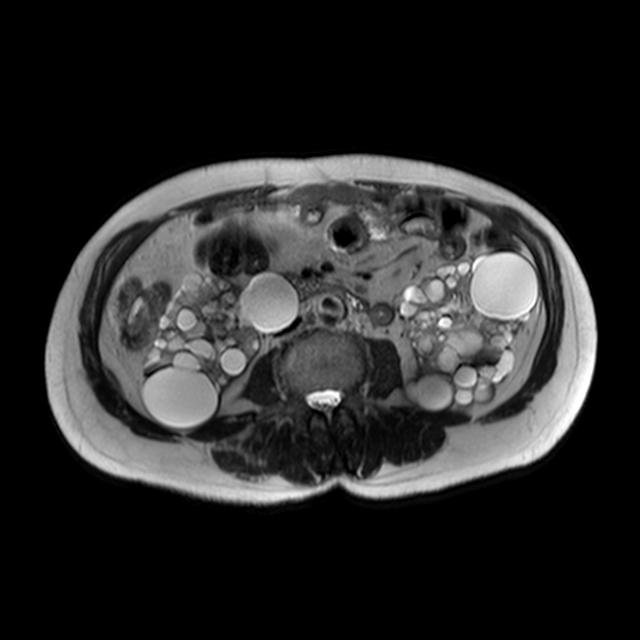sag: (138, 271, 301, 431)
sol: (394, 249, 539, 411)
